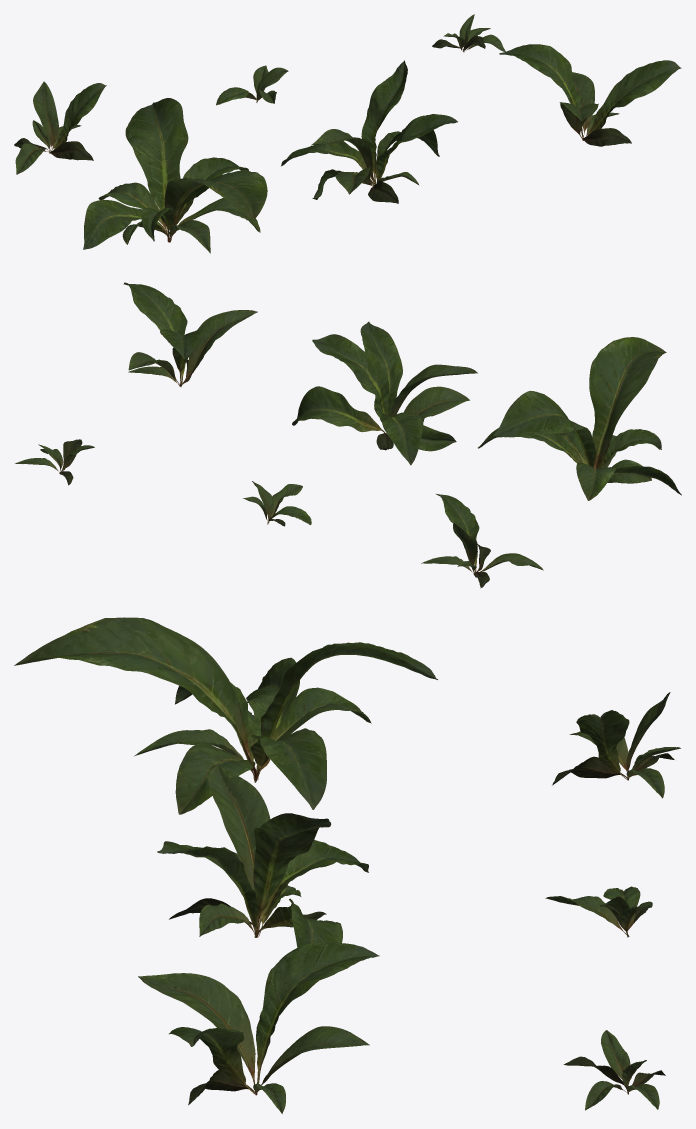
The model's file is plant.glb.
The picture shows the model from 3 angles, top to bottom: view 1: azimuth 30°, elevation 25°; view 2: azimuth 150°, elevation 25°; view 3: azimuth 270°, elevation 25°; orthographic projection. The views are drawn at different scales.
Parts seen in each view (by area): view 1: anthurium_botany_01_a, anthurium_botany_01_b, anthurium_botany_01_c, anthurium_botany_04_d, anthurium_botany_05_e, anthurium_botany_06_f; view 2: anthurium_botany_01_a, anthurium_botany_01_b, anthurium_botany_01_c, anthurium_botany_04_d, anthurium_botany_05_e, anthurium_botany_06_f; view 3: anthurium_botany_01_a, anthurium_botany_01_b, anthurium_botany_01_c, anthurium_botany_04_d, anthurium_botany_06_f, anthurium_botany_05_e.
Boxes of the visible parts, x1,y1,x2,y2 form: anthurium_botany_01_a: (83,98,267,253); anthurium_botany_01_b: (281,60,457,203); anthurium_botany_01_c: (499,44,681,146); anthurium_botany_04_d: (14,81,106,174); anthurium_botany_05_e: (216,65,288,105); anthurium_botany_06_f: (432,14,505,52); anthurium_botany_01_a: (478,337,681,500); anthurium_botany_01_b: (292,321,477,465); anthurium_botany_01_c: (123,282,257,386); anthurium_botany_04_d: (421,494,543,588); anthurium_botany_05_e: (243,481,311,526); anthurium_botany_06_f: (15,439,94,485); anthurium_botany_01_a: (14,617,437,814); anthurium_botany_01_b: (157,763,368,981); anthurium_botany_01_c: (138,942,379,1113); anthurium_botany_04_d: (552,692,680,798); anthurium_botany_06_f: (563,1030,665,1110); anthurium_botany_05_e: (545,886,652,937).
Size of the model in its own units: 2.8 by 0.4996 by 1.8.
Materials: 1 (1 with a texture image).
